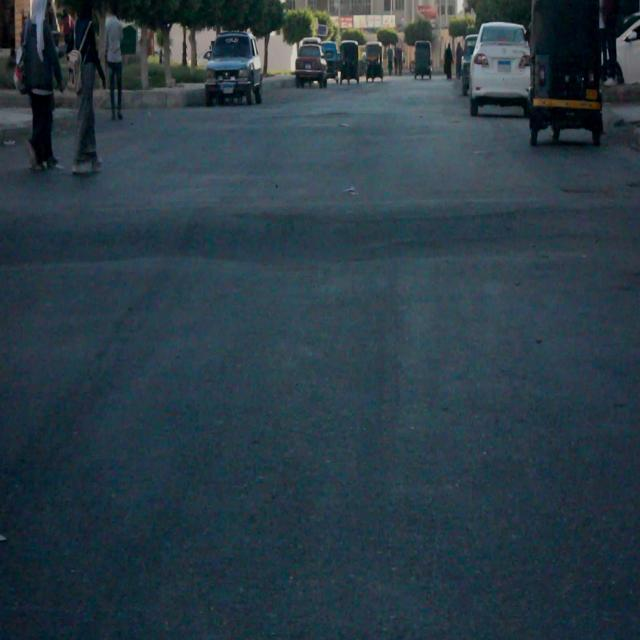NonMarked Bump: (12, 187, 623, 285)
